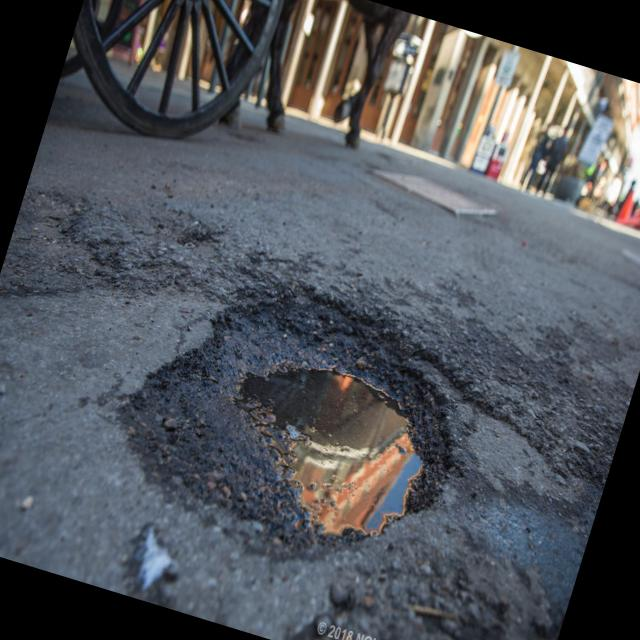Potholes: (85, 232, 479, 580)
